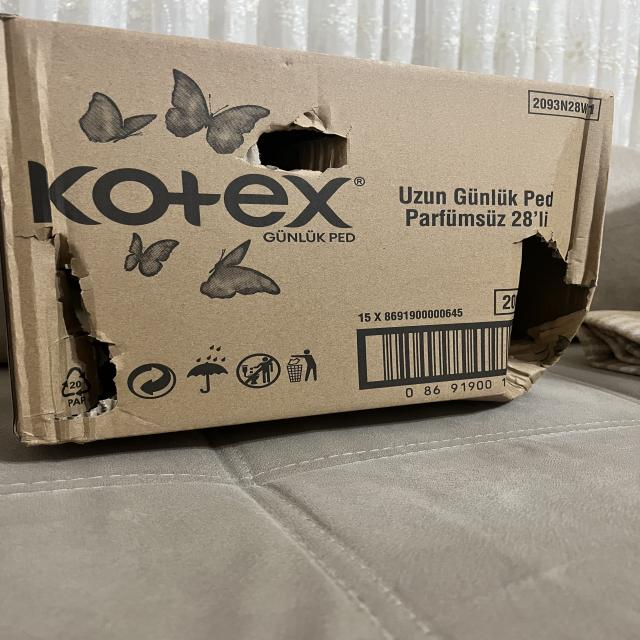damaged: (4, 14, 619, 456), (15, 216, 128, 447), (504, 229, 596, 410), (235, 102, 363, 184)
